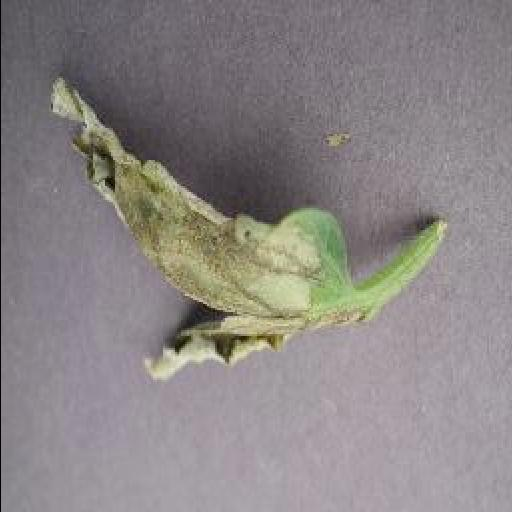disease_tomato: (44, 74, 378, 382)
